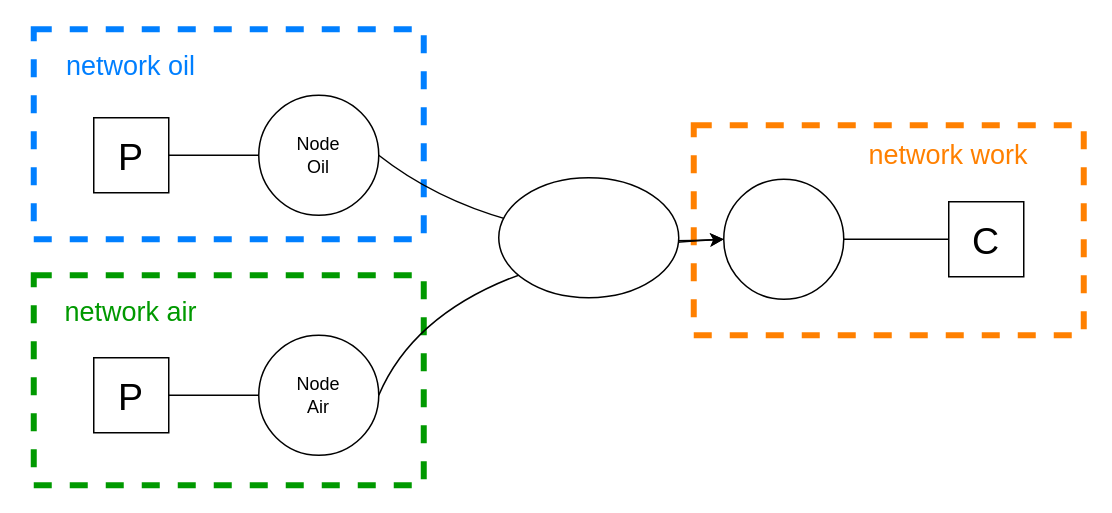
Image size: 1112x513. Some labels were removed from this diagram. Here are the shapes that lost their labels. From the top down, the box of each, then its label:
(497, 176, 679, 298): Converter Engine
(722, 178, 844, 299): Node Work
